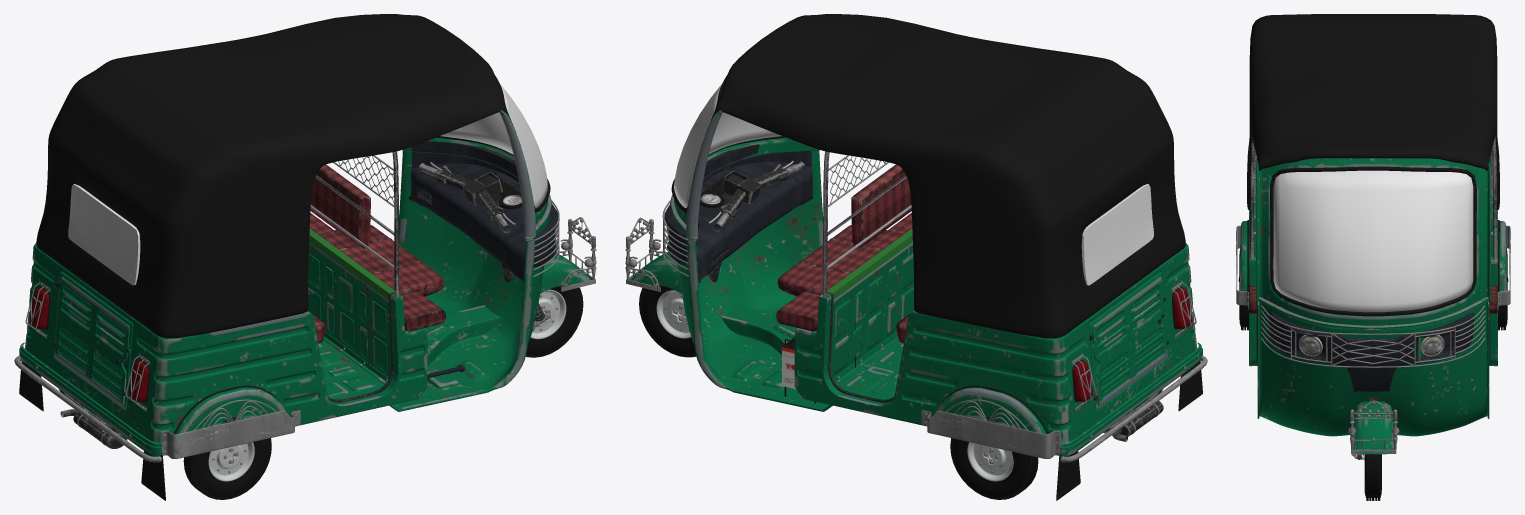
File: cng.glb
The picture shows the model from 3 angles, left to right: view 1: azimuth 30°, elevation 25°; view 2: azimuth 150°, elevation 25°; view 3: azimuth 270°, elevation 25°; orthographic projection. The views are drawn at different scales.
Visible parts, largest first — view 1: hood, rear mud guard, Front bumper, Seat, switch, back glass, Tire, front glass _glass_0, Rim, mud flap, Steering, hood support (+4 smaller); view 2: hood, rear mud guard, Front bumper, Seat, switch, back glass, Tire, front glass _glass_0, Rim, mud flap, Steering, hood support (+5 smaller); view 3: hood, rear mud guard, front glass _glass_0, base cover, Front bumper, mud flap, Tire, hood support, light, Seat.
Part boxes in pixels (x1,y1,x2,y2): hood: (36, 14, 507, 338); rear mud guard: (19, 110, 590, 458); Front bumper: (14, 155, 596, 462); Seat: (309, 164, 445, 343); switch: (408, 141, 533, 281); back glass: (68, 184, 140, 285); Tire: (183, 285, 583, 499); front glass _glass_0: (440, 84, 547, 208); Rim: (208, 289, 566, 481); mud flap: (19, 76, 550, 500); Steering: (419, 162, 516, 232); hood support: (310, 151, 398, 297); hood: (714, 14, 1185, 338); rear mud guard: (630, 110, 1202, 458); Front bumper: (625, 155, 1207, 462); Seat: (776, 164, 912, 343); switch: (676, 144, 813, 283); back glass: (1081, 184, 1153, 285); Tire: (639, 285, 1038, 499); front glass _glass_0: (674, 84, 781, 207); Rim: (656, 290, 1013, 481); mud flap: (671, 76, 1202, 500); Steering: (708, 160, 804, 231); hood support: (823, 151, 911, 297); hood: (1247, 14, 1499, 209); rear mud guard: (1240, 156, 1506, 454); front glass _glass_0: (1273, 170, 1473, 312); base cover: (1256, 159, 1490, 391); Front bumper: (1236, 154, 1510, 453); mud flap: (1238, 166, 1508, 316); Tire: (1239, 249, 1507, 500); hood support: (1249, 136, 1497, 259); light: (1298, 335, 1444, 356); Seat: (1249, 285, 1497, 313).
Size of the model in its own units: 2.5 by 1.6 by 1.27.
Materials: 24 (14 with a texture image).
